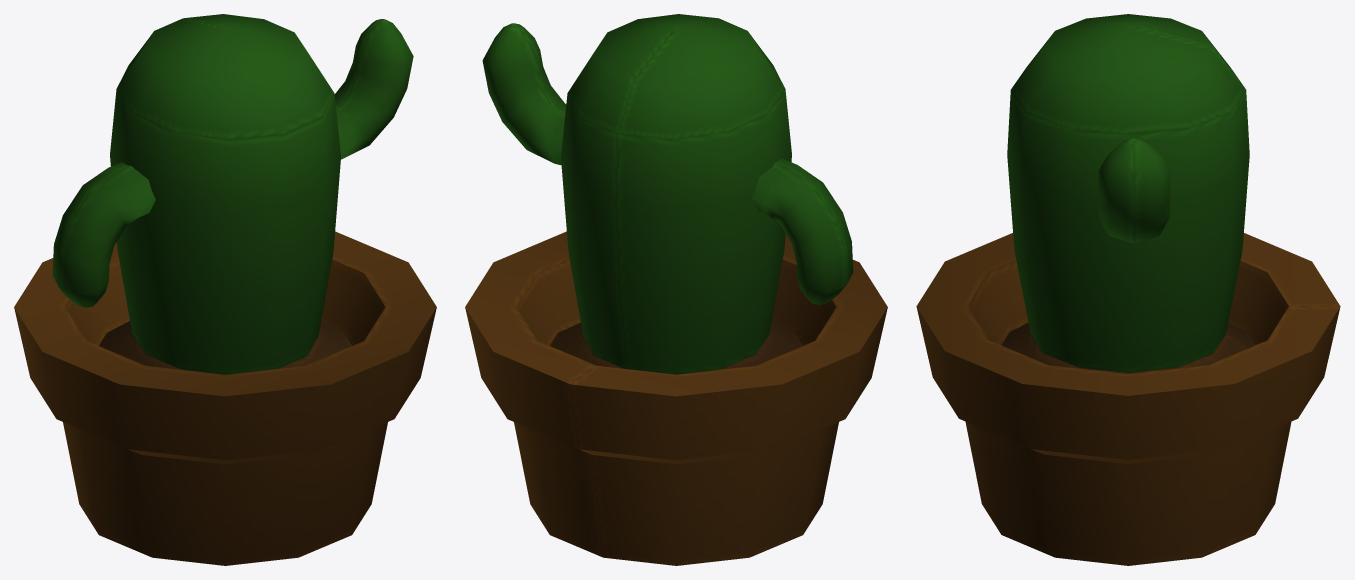
File: cactus_santiago.fbx
3 views of the same model, side by side, from view 1: azimuth 30°, elevation 25°; view 2: azimuth 150°, elevation 25°; view 3: azimuth 270°, elevation 25° (orthographic).
Parts seen in each view (by area): view 1: K ctus; view 2: K ctus; view 3: K ctus.
Part boxes in pixels (x1,y1,x2,y2): K ctus: (14,14,436,565); K ctus: (465,14,887,565); K ctus: (916,14,1340,565).
Size of the model in its own units: 223 by 277 by 222.
Materials: 1 (1 with a texture image).
